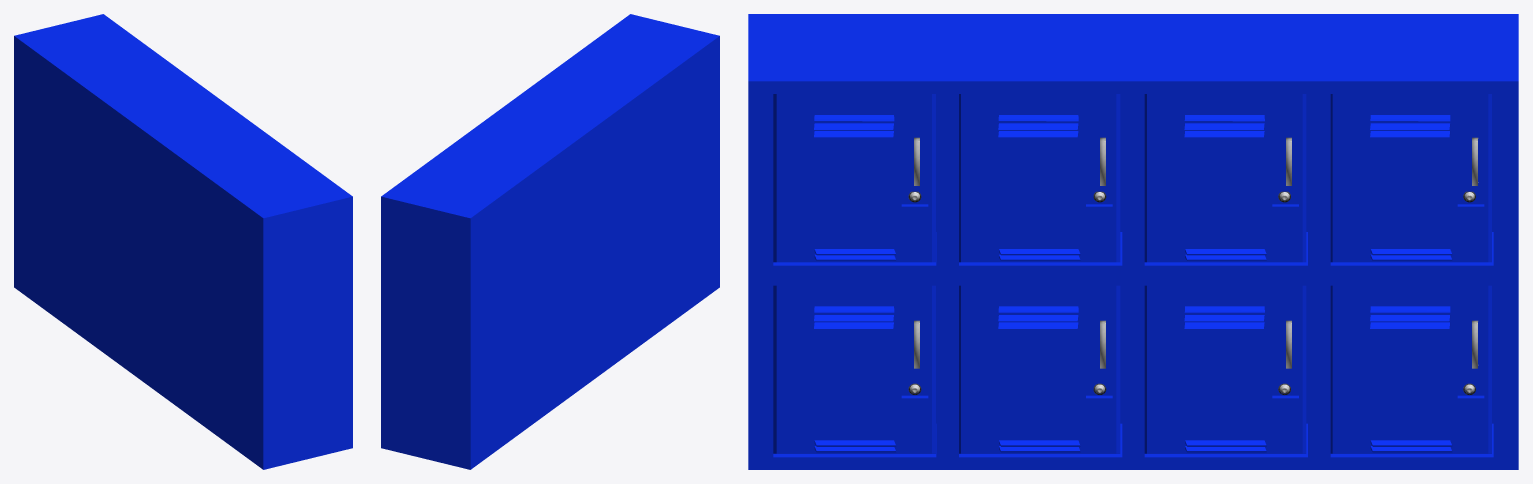
Rendered from school.fbx_small_lockers.fbx.
The picture shows the model from 3 angles, left to right: view 1: azimuth 30°, elevation 25°; view 2: azimuth 150°, elevation 25°; view 3: azimuth 270°, elevation 25°; orthographic projection. The views are drawn at different scales.
Visible parts, largest first — view 1: Locker_B; view 2: Locker_B; view 3: Locker_B, Lockerdoor_m, Lockerdoor_o, Lockerdoor_i, Lockerdoor_k, Lockerdoor_n, Lockerdoor_p, Lockerdoor_j, Lockerdoor_l, Locker_B.001, Plane.005.
Boxes of the visible parts, left/top/right/bottom form: Locker_B: left=14, top=14, right=352, bottom=469; Locker_B: left=381, top=14, right=719, bottom=469; Locker_B: left=748, top=14, right=1518, bottom=469; Lockerdoor_m: left=773, top=285, right=935, bottom=453; Lockerdoor_o: left=1144, top=285, right=1306, bottom=453; Lockerdoor_i: left=773, top=94, right=935, bottom=262; Lockerdoor_k: left=1144, top=94, right=1306, bottom=262; Lockerdoor_n: left=959, top=285, right=1120, bottom=453; Lockerdoor_p: left=1330, top=285, right=1491, bottom=453; Lockerdoor_j: left=959, top=94, right=1120, bottom=262; Lockerdoor_l: left=1330, top=94, right=1491, bottom=262; Locker_B.001: left=936, top=94, right=1493, bottom=452; Plane.005: left=914, top=137, right=1478, bottom=368.
Bounding box in the file's own units: 76.94 × 201 × 361.
